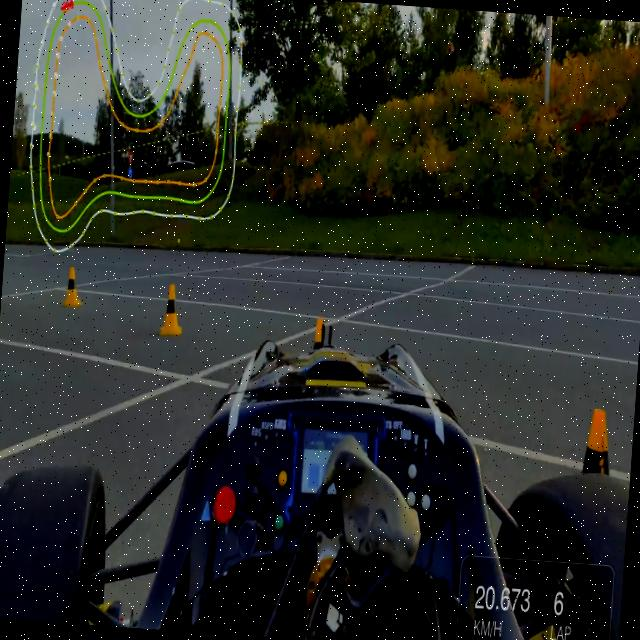yellow_cone: (563, 404, 629, 543), (295, 314, 342, 430), (158, 280, 186, 338), (62, 264, 84, 308)
